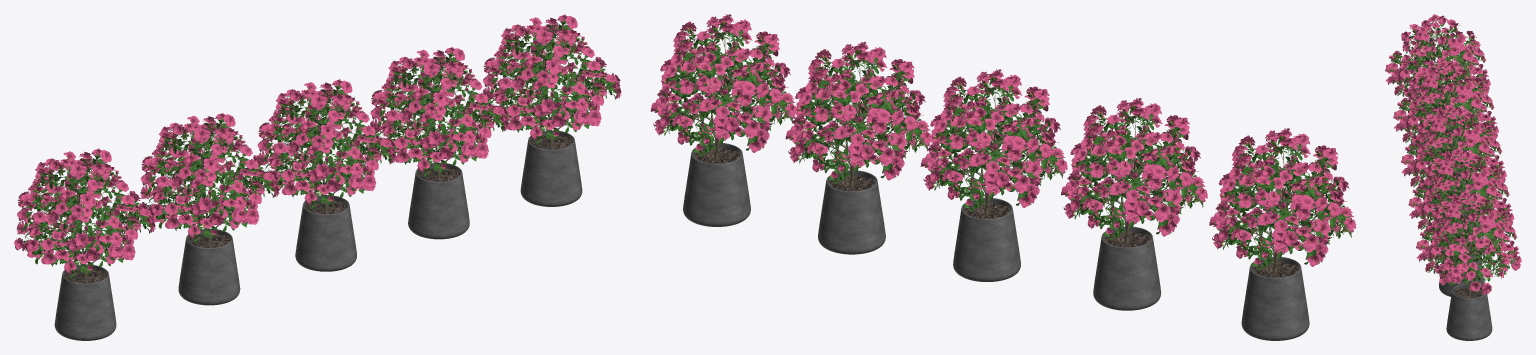
Rendered from Room4-Flower9(Hibiscus_pink).glb.
The picture shows the model from 3 angles, left to right: view 1: azimuth 30°, elevation 25°; view 2: azimuth 150°, elevation 25°; view 3: azimuth 270°, elevation 25°; orthographic projection. The views are drawn at different scales.
Parts seen in each view (by area): view 1: Hibiscus_pink.004, Hibiscus_pink.003, Hibiscus_pink.002, Hibiscus_pink.001, Hibiscus_pink; view 2: Hibiscus_pink.003, Hibiscus_pink.001, Hibiscus_pink.004, Hibiscus_pink, Hibiscus_pink.002; view 3: Hibiscus_pink, Hibiscus_pink.004, Hibiscus_pink.001, Hibiscus_pink.003, Hibiscus_pink.002.
Part boxes in pixels (bbox=[...]): Hibiscus_pink.004: bbox=[14, 148, 155, 340]; Hibiscus_pink.003: bbox=[138, 113, 279, 305]; Hibiscus_pink.002: bbox=[256, 79, 396, 271]; Hibiscus_pink.001: bbox=[368, 47, 508, 239]; Hibiscus_pink: bbox=[481, 14, 621, 206]; Hibiscus_pink.003: bbox=[1061, 98, 1207, 310]; Hibiscus_pink.001: bbox=[785, 41, 932, 254]; Hibiscus_pink.004: bbox=[1209, 128, 1356, 340]; Hibiscus_pink: bbox=[650, 14, 797, 226]; Hibiscus_pink.002: bbox=[920, 69, 1067, 281]; Hibiscus_pink: bbox=[1416, 191, 1521, 340]; Hibiscus_pink.004: bbox=[1385, 14, 1490, 160]; Hibiscus_pink.001: bbox=[1408, 148, 1514, 296]; Hibiscus_pink.003: bbox=[1393, 61, 1498, 209]; Hibiscus_pink.002: bbox=[1401, 105, 1506, 253].
Bounding box in the file's own units: 9.98 × 2.78 × 2.6.
7 materials, 7 textured.
